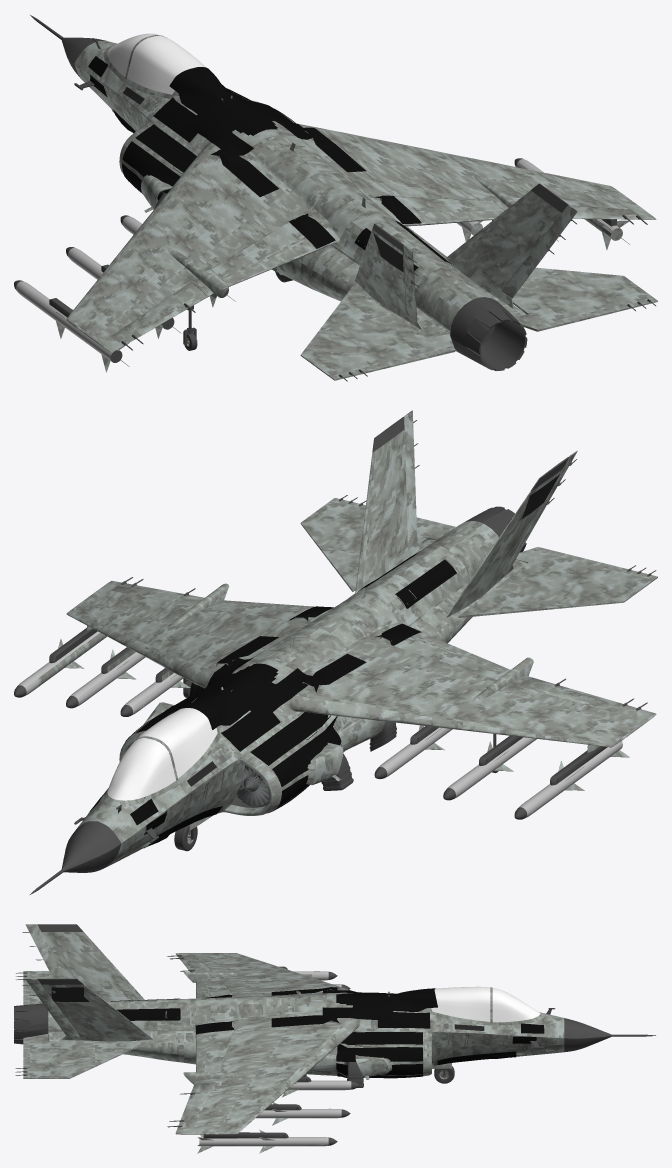
Rendered from Jet.fbx.
The picture shows the model from 3 angles, top to bottom: view 1: azimuth 30°, elevation 25°; view 2: azimuth 150°, elevation 25°; view 3: azimuth 270°, elevation 25°; orthographic projection. The views are drawn at different scales.
Parts seen in each view (by area): view 1: HydraHull, HydraSteaks, HydraDecals; view 2: HydraHull, HydraSteaks, HydraDecals; view 3: HydraHull, HydraSteaks, HydraDecals.
Boxes of the visible parts, box(x1,y1,x2,y2) form: HydraHull: box(14, 15, 657, 381); HydraSteaks: box(88, 56, 455, 271); HydraDecals: box(123, 87, 403, 272); HydraHull: box(14, 410, 657, 894); HydraSteaks: box(89, 553, 456, 848); HydraDecals: box(93, 474, 559, 808); HydraHull: box(14, 924, 655, 1153); HydraSteaks: box(111, 987, 544, 1078); HydraDecals: box(51, 987, 484, 1030).
Size of what is drawn, in the model's own units: 1122 by 379 by 1687.
